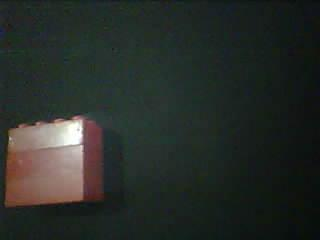lego: (1, 115, 106, 211)
